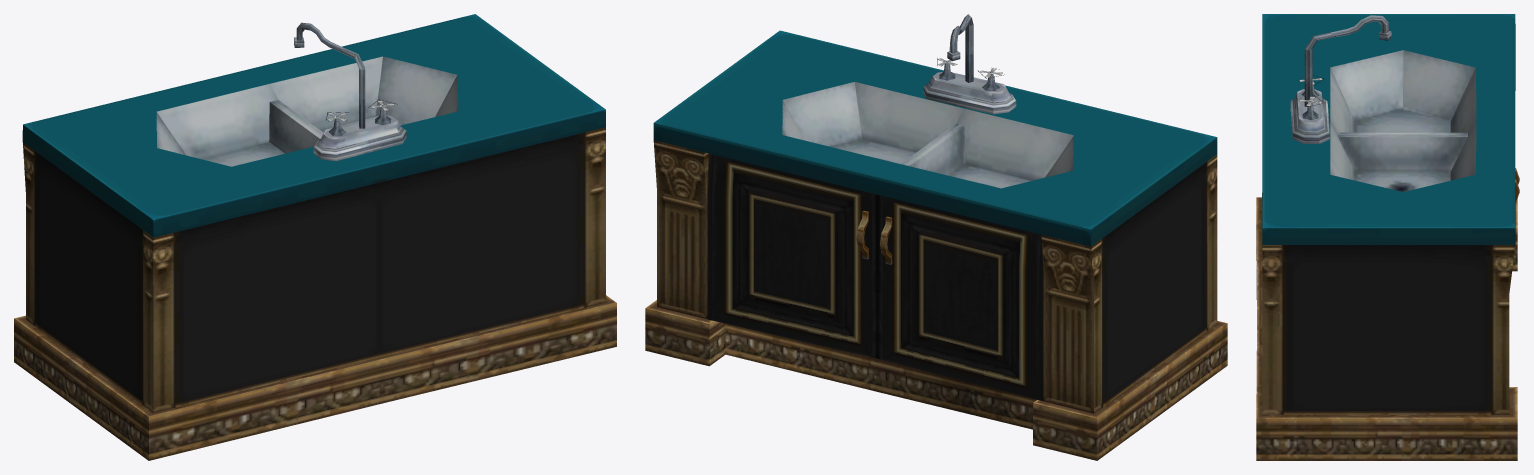
File: furni_0200327_02.FBX
The picture shows the model from 3 angles, left to right: view 1: azimuth 30°, elevation 25°; view 2: azimuth 150°, elevation 25°; view 3: azimuth 270°, elevation 25°; orthographic projection. The views are drawn at different scales.
Visible parts, largest first — view 1: furni_0200327_02; view 2: furni_0200327_02; view 3: furni_0200327_02.
Part boxes in pixels (left/top/right/bottom): furni_0200327_02: left=14, top=14, right=616, bottom=460; furni_0200327_02: left=645, top=14, right=1227, bottom=460; furni_0200327_02: left=1256, top=14, right=1519, bottom=460.
Size of the model in its own units: 165 by 115 by 83.25.
Materials: 1 (1 with a texture image).
